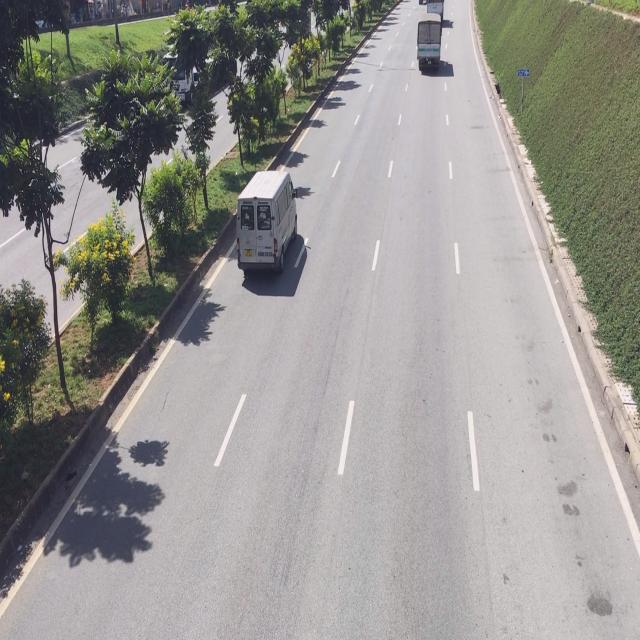bus: (238, 167, 302, 279)
truck: (417, 10, 443, 73)
